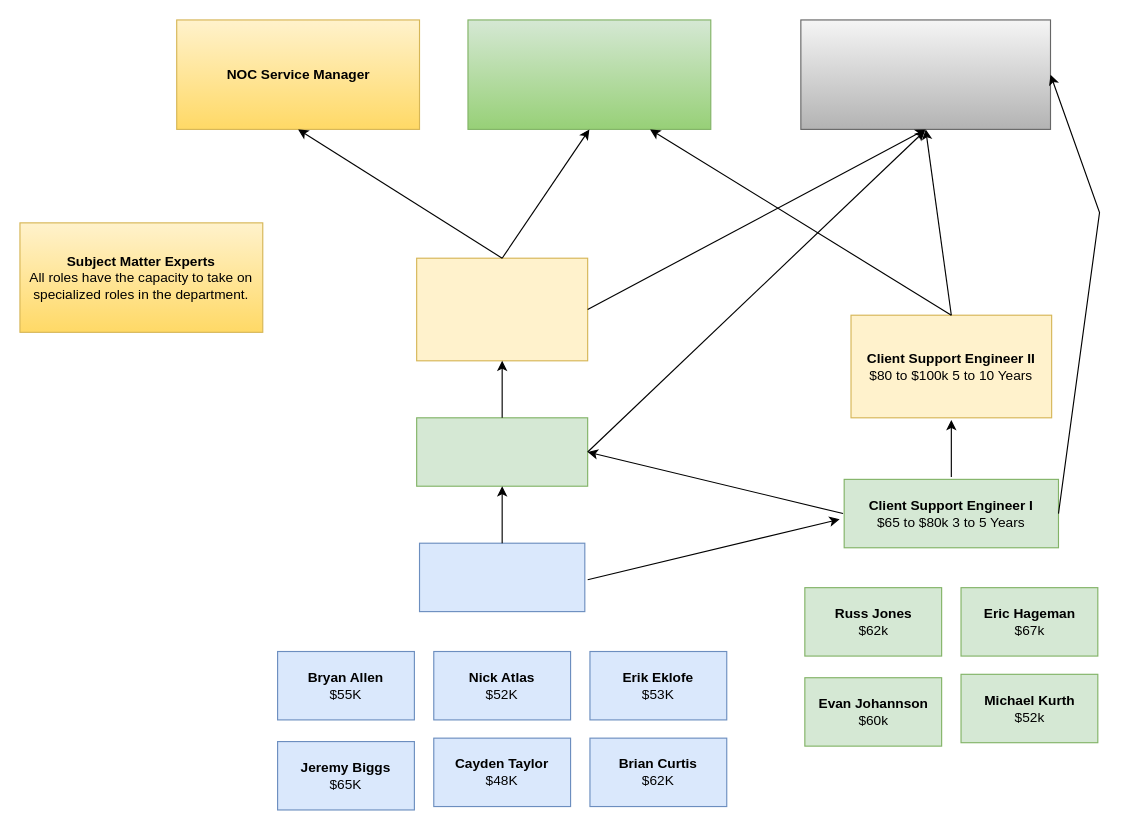
Image size: 1129x830. Some labels were removed from this diagram. The shapes that lost their labels are listed below. From the top down, each one's box as (x1, y1, x2, y2) in pixels, then its label:
(467, 19, 711, 129): Sales Engineer
(800, 19, 1051, 129): NIS 1/2
(416, 257, 588, 361): Client Support Manager $80 to $100k 3 - 5 Years
(416, 417, 588, 486): Client Support Analyst II $65 to $80k 2-3 Years
(418, 542, 585, 612): Client Support Analyst I $50 to $65k 1 to 2 Years
